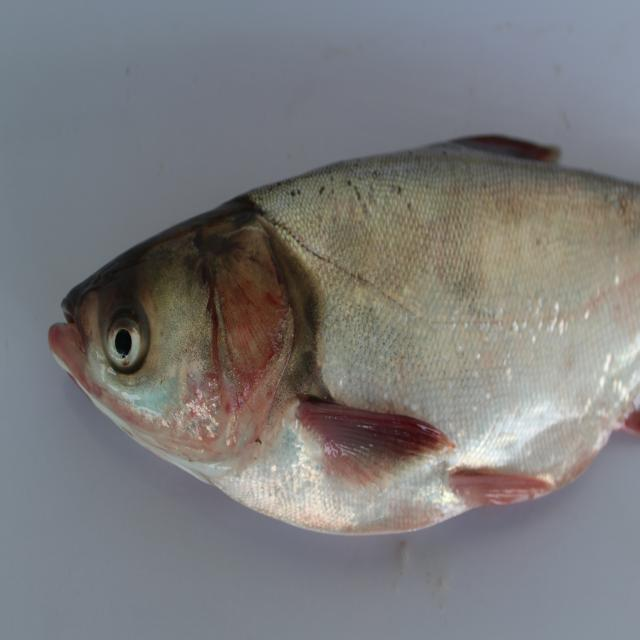SilverCarp: (39, 130, 640, 501)
